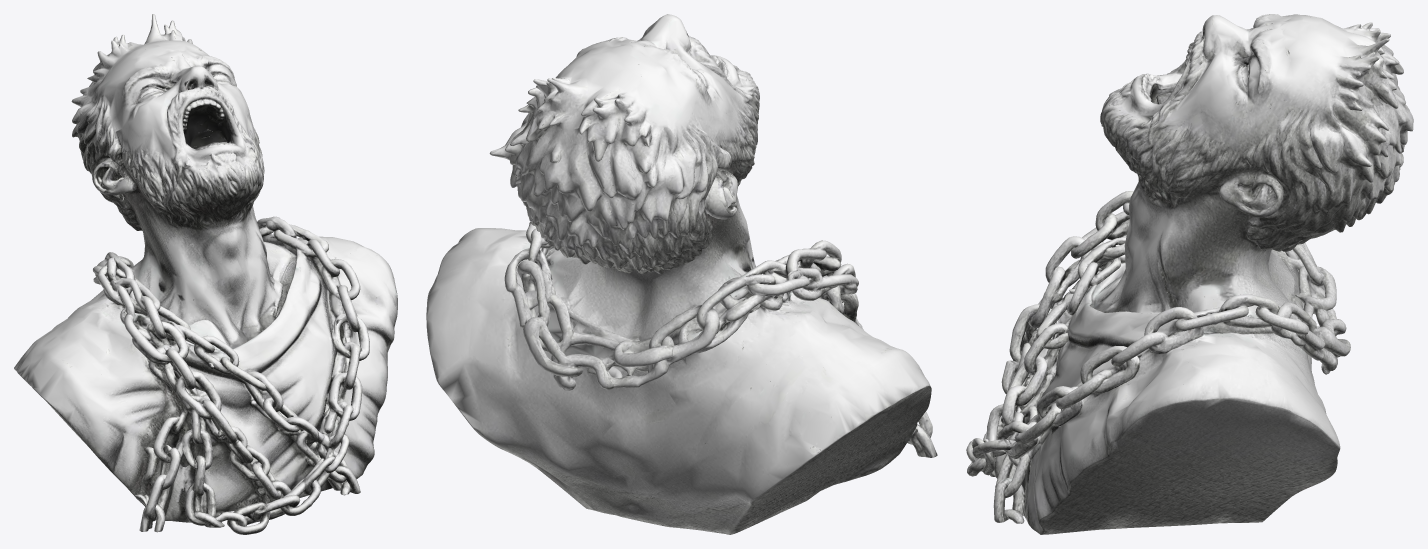
Rendered from rules-without-rulers.glb.
3 renders of one model, left to right at view 1: azimuth 30°, elevation 25°; view 2: azimuth 150°, elevation 25°; view 3: azimuth 270°, elevation 25°, orthographic. The views are drawn at different scales.
Parts seen in each view (by area): view 1: mesh_node; view 2: mesh_node; view 3: mesh_node.
Part boxes in pixels (<box>): mesh_node: <box>14,14,397,534</box>; mesh_node: <box>426,14,937,534</box>; mesh_node: <box>966,14,1413,534</box>.
Bounding box in the file's own units: 1.81 × 1.9 × 1.61.
1 material, 1 textured.
